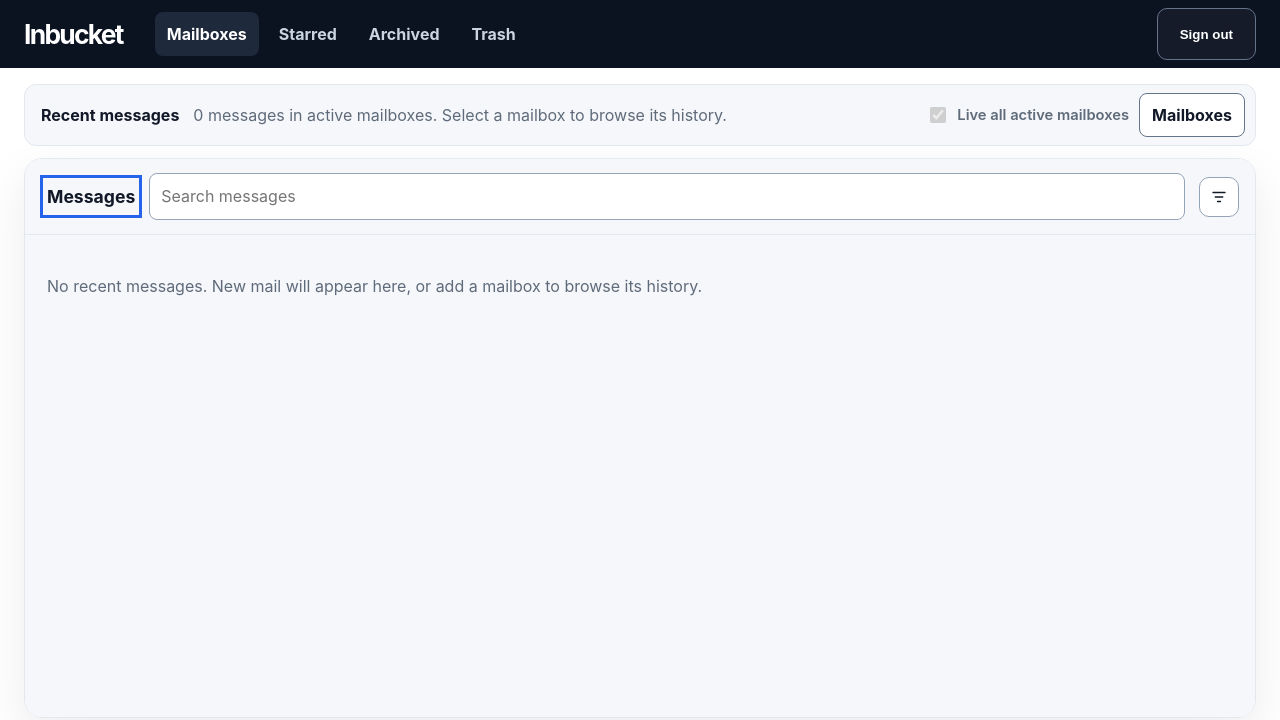
Test: Trash › keeps failed items after partial Empty trash and reports one outcome per message
Check: the heading "Messages" is shown, box 47,182 -> 135,211
Click the button "Trash" at (494, 34), box 460,12 -> 528,56
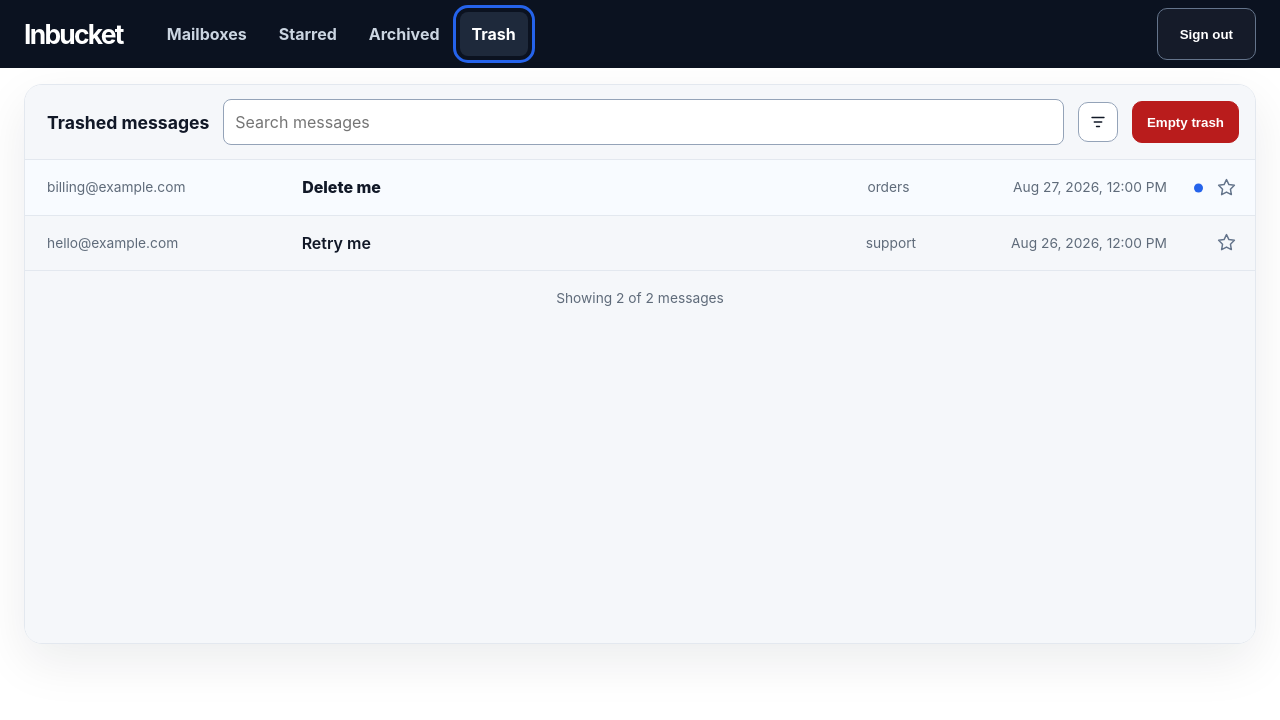
Check: the button with aria-label "Unread: Delete me" is shown, box 25,160 -> 1255,215
Click the button "Empty trash" at (1186, 122), box 1132,101 -> 1239,143
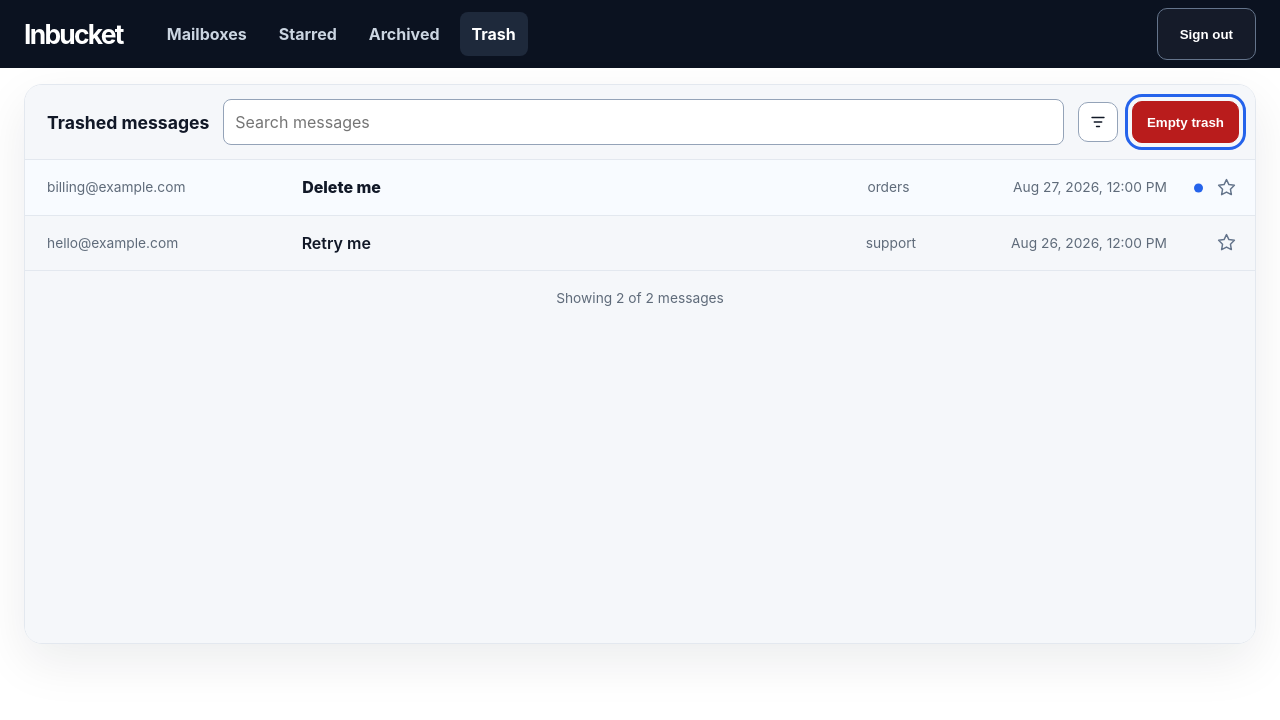
Check: the button with aria-label "Unread: Delete me" is shown, box 25,160 -> 1255,215
Click the button "Empty trash" at (1186, 122), box 1132,101 -> 1239,143
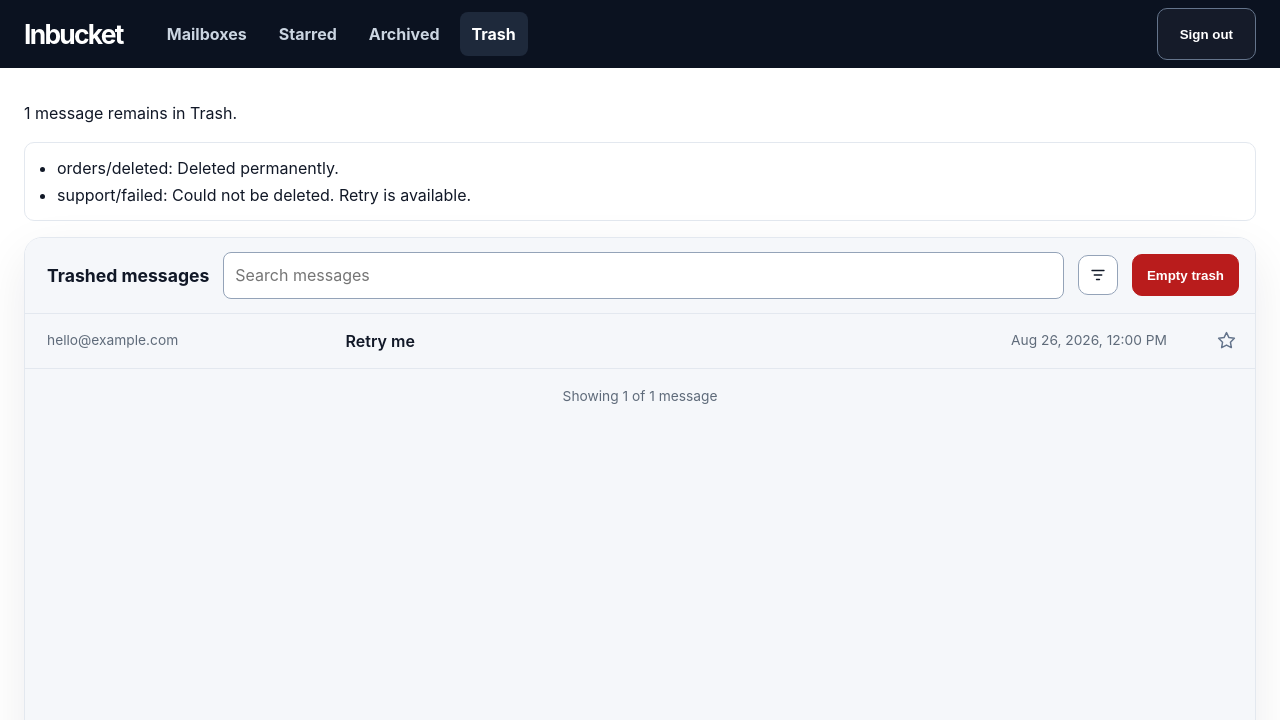
Check: the text "1 message remains in Trash." is shown, box 24,103 -> 237,123
Check: the number of list items is 2, box 57,158 -> 339,178; 57,185 -> 471,205
Check: the list named "Empty trash results" shows "orders/deleted: Deleted permanently.", box 57,158 -> 339,178
